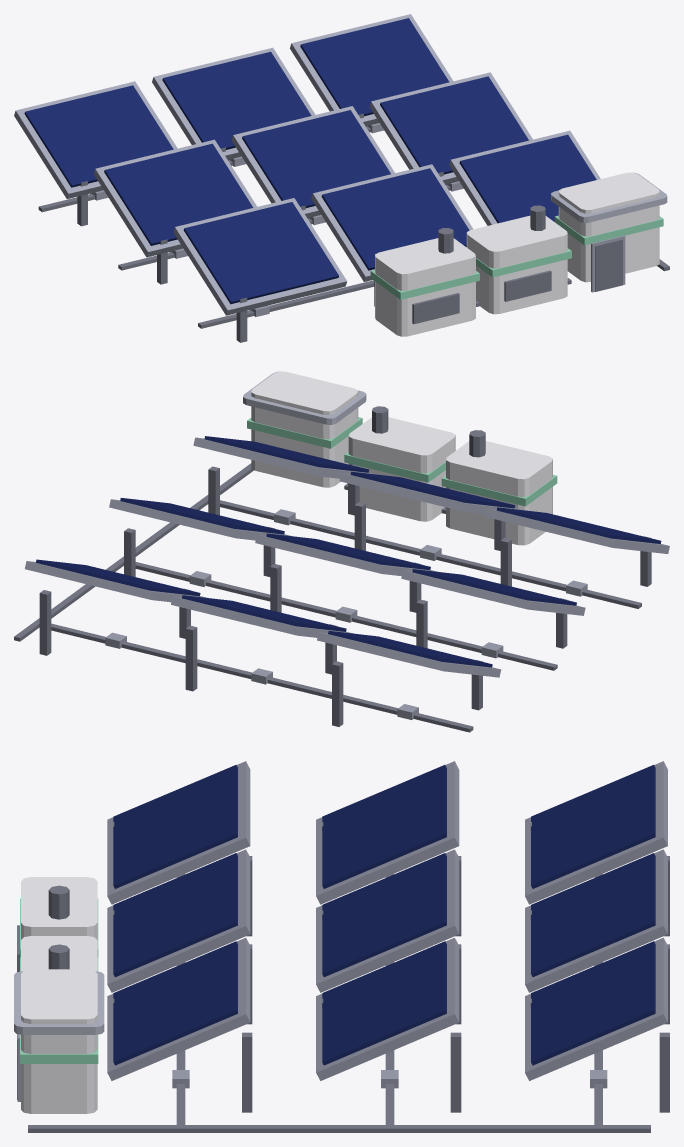
Rendered from solar-2x2-t3.glb.
The picture shows the model from 3 angles, top to bottom: view 1: azimuth 30°, elevation 25°; view 2: azimuth 150°, elevation 25°; view 3: azimuth 270°, elevation 25°; orthographic projection. The views are drawn at different scales.
Visible parts, largest first — view 1: solar-2x2-t3; view 2: solar-2x2-t3; view 3: solar-2x2-t3.
Boxes of the visible parts, x1,y1,x2,y2 form: solar-2x2-t3: (14,14,669,342); solar-2x2-t3: (14,371,669,732); solar-2x2-t3: (14,761,669,1132).
Bounding box in the file's own units: 1.79 × 0.3435 × 1.88.
Materials: 1 (1 with a texture image).
